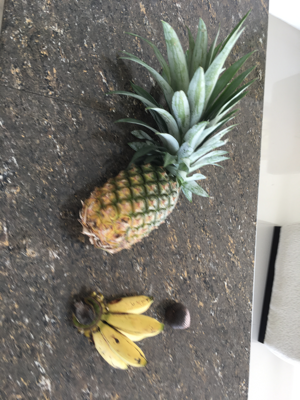banana: (70, 288, 164, 370)
pineapple: (74, 14, 251, 255)
snake fruit: (166, 300, 192, 331)
